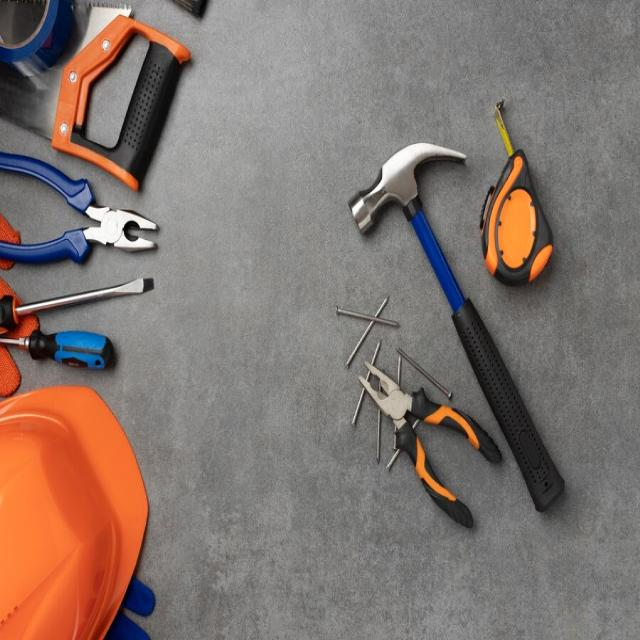Screwdriver: (0, 279, 154, 329), (0, 330, 114, 368)
